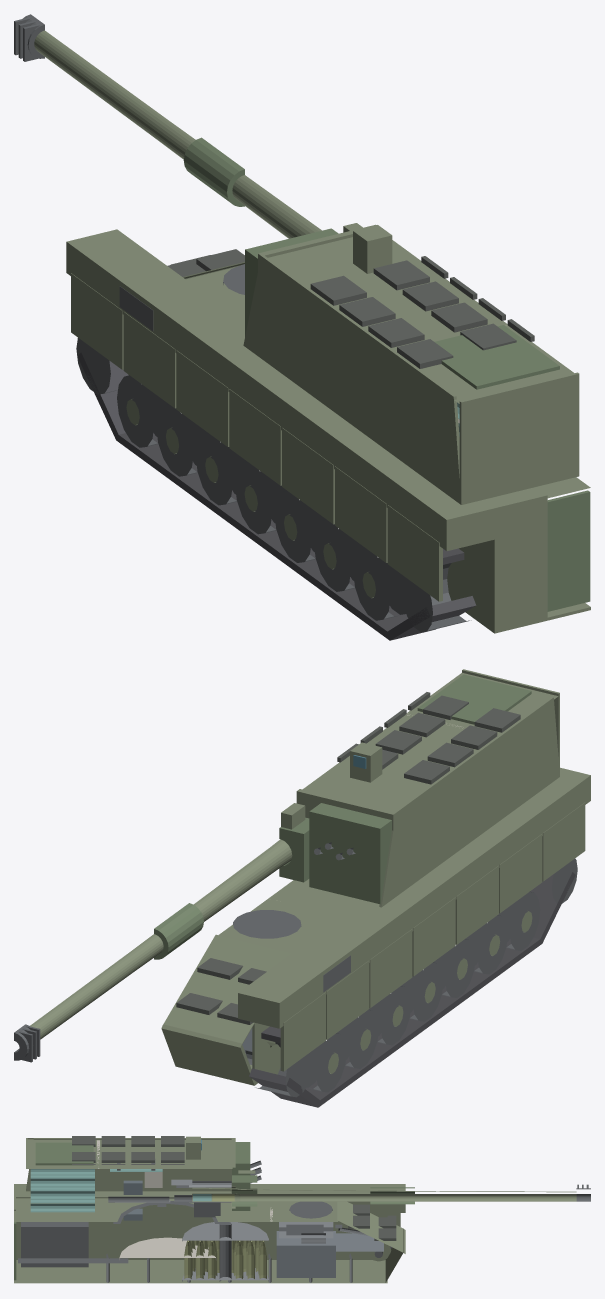
File: pzh2000-cutaway.glb
3 renders of one model, top to bottom at view 1: azimuth 30°, elevation 25°; view 2: azimuth 150°, elevation 25°; view 3: azimuth 270°, elevation 25°, orthographic. The views are drawn at different scales.
Visible parts, largest first — view 1: ext_hull_sponson_deck_left, ext_turret_side_left, ext_turret_rear_wall, ext_turret_roof_plate, ext_hull_rear_frame_left, ext_gun_155mm_l52_barrel, ext_hull_rear_door_left, ext_track_lower_l, ext_bustle_blowout_panel_left, ext_hull_side_wall_left, ext_side_skirt_l_7, ext_side_skirt_l_2 (+29 smaller); view 2: ext_hull_sponson_deck_left, ext_turret_side_left, ext_turret_front_cheek_left, ext_turret_roof_plate, ext_gun_155mm_l52_barrel, ext_hull_upper_glacis, ext_hull_roof_deck, ext_track_lower_l, ext_hull_lower_glacis, ext_bustle_blowout_panel_left, ext_side_skirt_l_1, ext_side_skirt_l_6 (+32 smaller); view 3: ext_hull_belly_plate, ext_hull_side_wall_left, ext_hull_roof_deck, ext_gun_155mm_l52_barrel, ext_turret_roof_plate, int_fuel_cell_left_rear, ext_hull_sponson_deck_left, ext_turret_side_left, int_engine_mtu_mt881_block, int_turret_basket_floor, int_carousel_upper_spider_ring, ext_bustle_blowout_panel_left (+43 smaller).
Boxes of the visible parts, <box> form: ext_hull_sponson_deck_left: <box>66,229,497,551</box>; ext_turret_side_left: <box>243,255,461,504</box>; ext_turret_rear_wall: <box>459,372,579,504</box>; ext_turret_roof_plate: <box>268,237,574,403</box>; ext_hull_rear_frame_left: <box>492,494,547,630</box>; ext_gun_155mm_l52_barrel: <box>34,30,321,238</box>; ext_hull_rear_door_left: <box>547,490,590,611</box>; ext_track_lower_l: <box>116,433,408,640</box>; ext_bustle_blowout_panel_left: <box>434,325,559,389</box>; ext_hull_side_wall_left: <box>132,242,497,630</box>; ext_side_skirt_l_7: <box>387,505,442,601</box>; ext_side_skirt_l_2: <box>123,312,176,408</box>; ext_hull_sponson_deck_left: <box>238,767,590,1028</box>; ext_turret_side_left: <box>379,697,559,907</box>; ext_turret_front_cheek_left: <box>309,803,391,904</box>; ext_turret_roof_plate: <box>302,672,558,811</box>; ext_gun_155mm_l52_barrel: <box>30,839,292,1039</box>; ext_hull_upper_glacis: <box>163,934,291,1043</box>; ext_hull_roof_deck: <box>218,879,363,952</box>; ext_track_lower_l: <box>305,937,542,1107</box>; ext_hull_lower_glacis: <box>161,1024,254,1085</box>; ext_bustle_blowout_panel_left: <box>417,674,531,724</box>; ext_side_skirt_l_1: <box>280,992,325,1071</box>; ext_side_skirt_l_6: <box>499,834,542,913</box>; ext_hull_belly_plate: <box>14,1260,387,1283</box>; ext_hull_side_wall_left: <box>15,1196,387,1259</box>; ext_hull_roof_deck: <box>14,1198,338,1221</box>; ext_gun_155mm_l52_barrel: <box>192,1187,576,1201</box>; ext_turret_roof_plate: <box>26,1138,232,1168</box>; int_fuel_cell_left_rear: <box>21,1222,88,1267</box>; ext_hull_sponson_deck_left: <box>14,1184,405,1212</box>; ext_turret_side_left: <box>26,1138,231,1191</box>; int_engine_mtu_mt881_block: <box>276,1231,335,1277</box>; int_turret_basket_floor: <box>119,1237,216,1260</box>; int_carousel_upper_spider_ring: <box>182,1222,268,1241</box>; ext_bustle_blowout_panel_left: <box>35,1142,93,1165</box>.
Size of the model in its own units: 1.74 by 3.43 by 11.67.
